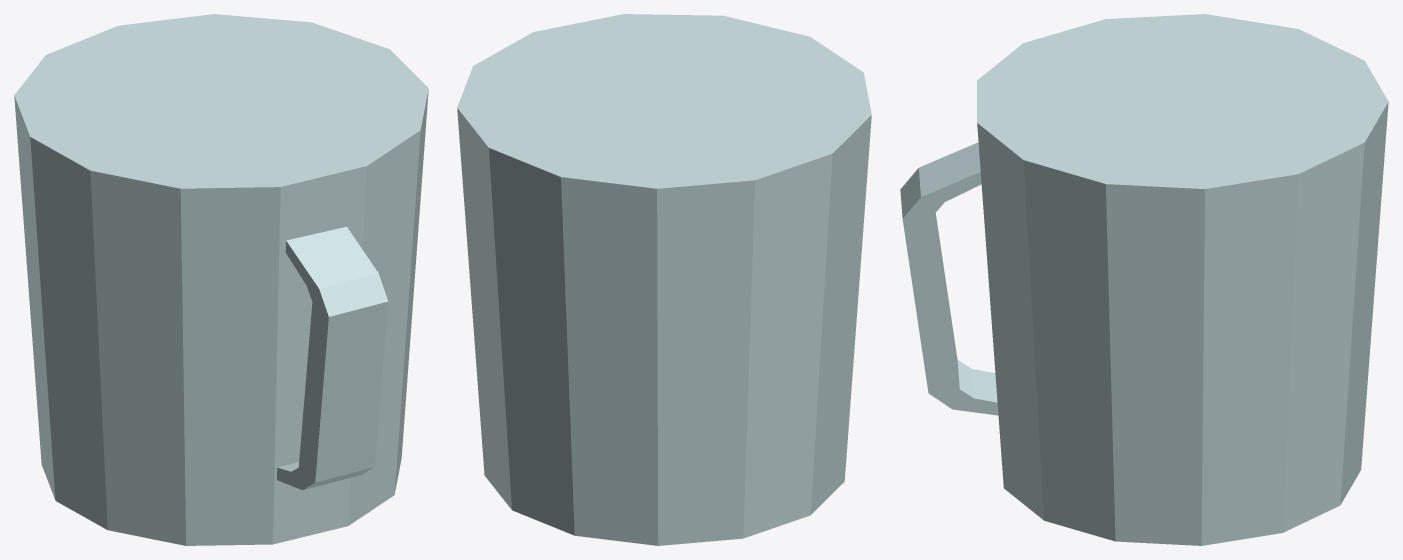
File: cup.fbx
The picture shows the model from 3 angles, left to right: view 1: azimuth 30°, elevation 25°; view 2: azimuth 150°, elevation 25°; view 3: azimuth 270°, elevation 25°; orthographic projection.
Parts seen in each view (by area): view 1: cup; view 2: cup; view 3: cup.
Boxes of the visible parts, x1=… form: cup: x1=14, y1=14, x2=428, y2=545; cup: x1=457, y1=14, x2=871, y2=545; cup: x1=900, y1=14, x2=1388, y2=545.
Bounding box in the file's own units: 16.48 × 16.16 × 19.42.
